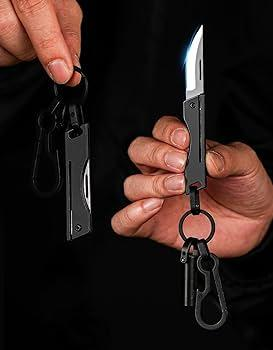Knife: (0, 0, 273, 350), (112, 116, 273, 259), (184, 25, 209, 197)
